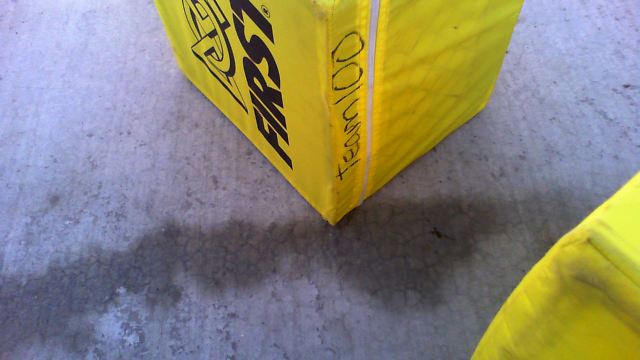cube: (153, 1, 526, 229)
